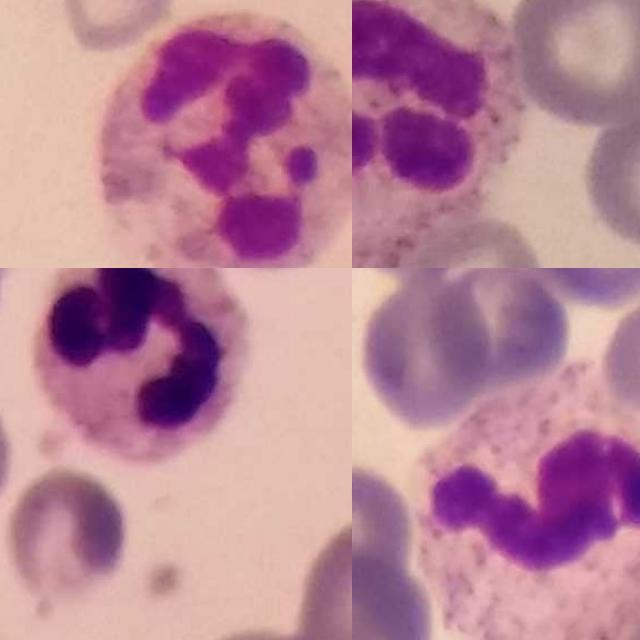Neutrophil: (94, 13, 352, 268), (412, 374, 640, 640), (352, 0, 525, 268), (28, 268, 250, 458)
